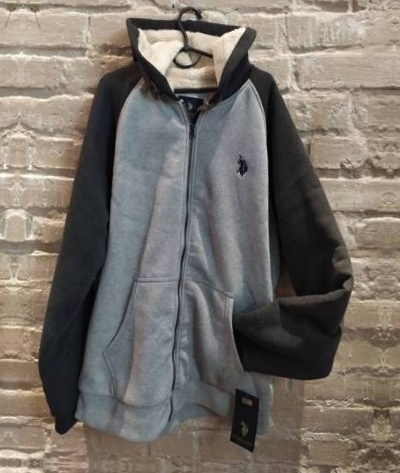Hoodie: (49, 0, 362, 462)
